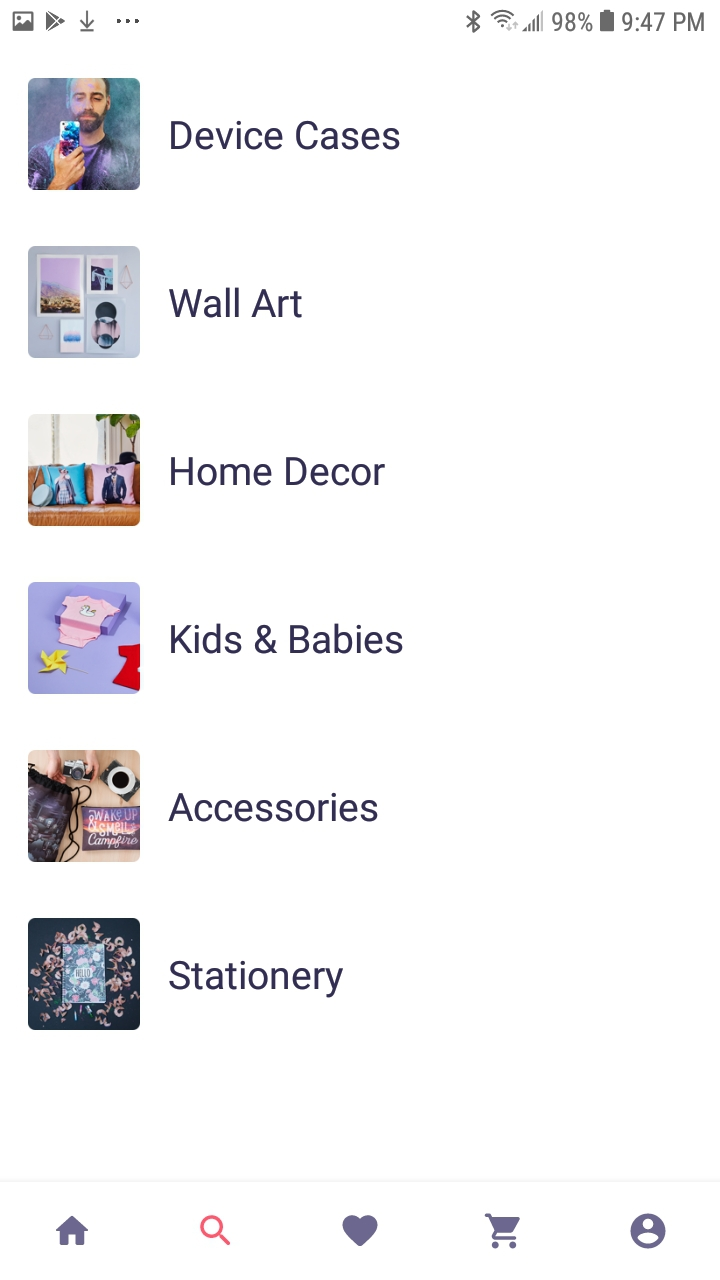Icon: (484, 1213, 521, 1250), (630, 1213, 666, 1249), (342, 1214, 379, 1247), (56, 1215, 90, 1246), (200, 1214, 231, 1246)
Image: (28, 918, 141, 1031), (28, 750, 141, 863), (28, 582, 141, 695), (28, 414, 141, 527), (28, 246, 141, 359), (28, 78, 141, 191)
Text: (171, 623, 404, 655), (171, 121, 401, 152), (169, 960, 344, 999), (169, 792, 379, 823), (171, 457, 386, 487), (169, 287, 303, 319)
UpperTaskBar: (1, 1, 720, 34)
